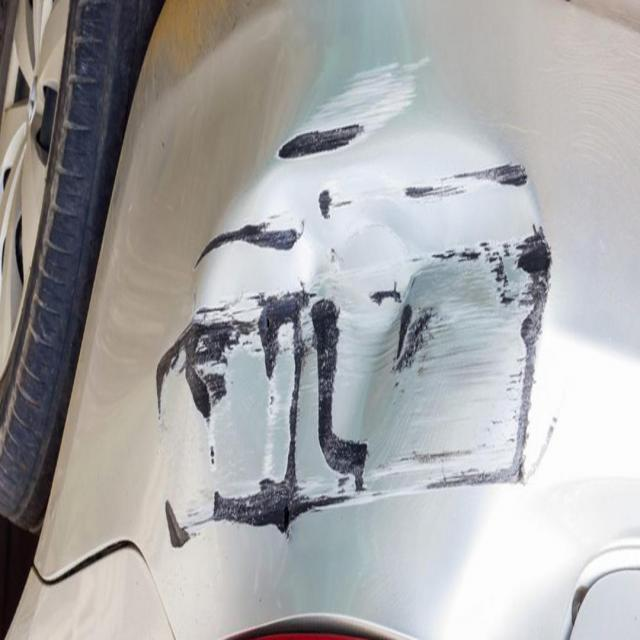dent: (131, 134, 552, 577)
